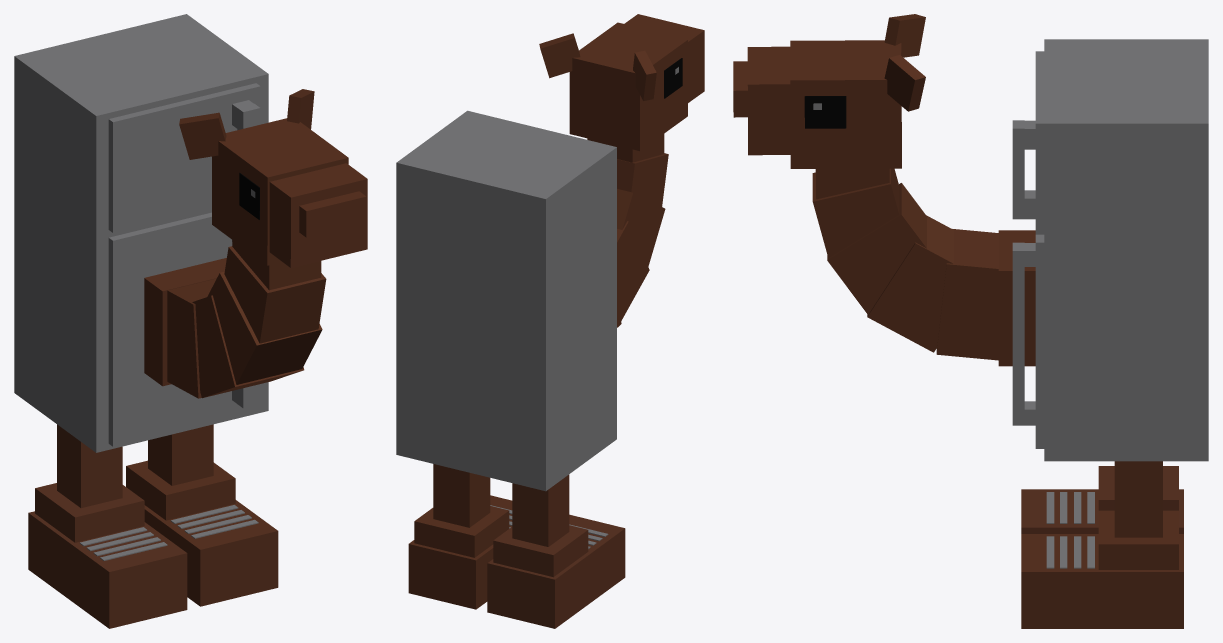
File: Frigo_Camelo.fbx
The picture shows the model from 3 angles, left to right: view 1: azimuth 30°, elevation 25°; view 2: azimuth 150°, elevation 25°; view 3: azimuth 270°, elevation 25°; orthographic projection. The views are drawn at different scales.
Visible parts, largest first — view 1: Frigo_Camelo, head.002, right_leg_2.003, left_leg_2.004, right_leg.006, left_leg; view 2: Frigo_Camelo, head.002, right_leg_2.003, left_leg_2.004, right_leg.006, left_leg; view 3: Frigo_Camelo, head.002, left_leg_2.004, right_leg_2.003, left_leg.
Boxes of the visible parts, x1,y1,x2,y2 form: Frigo_Camelo: (14, 14, 268, 452); head.002: (144, 89, 367, 398); right_leg_2.003: (28, 483, 187, 628); left_leg_2.004: (126, 460, 278, 606); right_leg.006: (57, 424, 122, 508); left_leg: (148, 424, 213, 485); Frigo_Camelo: (396, 110, 616, 491); head.002: (539, 14, 704, 327); right_leg_2.003: (487, 514, 625, 628); left_leg_2.004: (408, 495, 512, 609); right_leg.006: (512, 474, 569, 546); left_leg: (433, 464, 490, 527); Frigo_Camelo: (1012, 39, 1208, 461); head.002: (733, 14, 1035, 366); left_leg_2.004: (1021, 510, 1183, 628); right_leg_2.003: (1021, 466, 1183, 533); left_leg: (1114, 461, 1162, 537).
Bounding box in the file's own units: 292 × 886 × 694.
